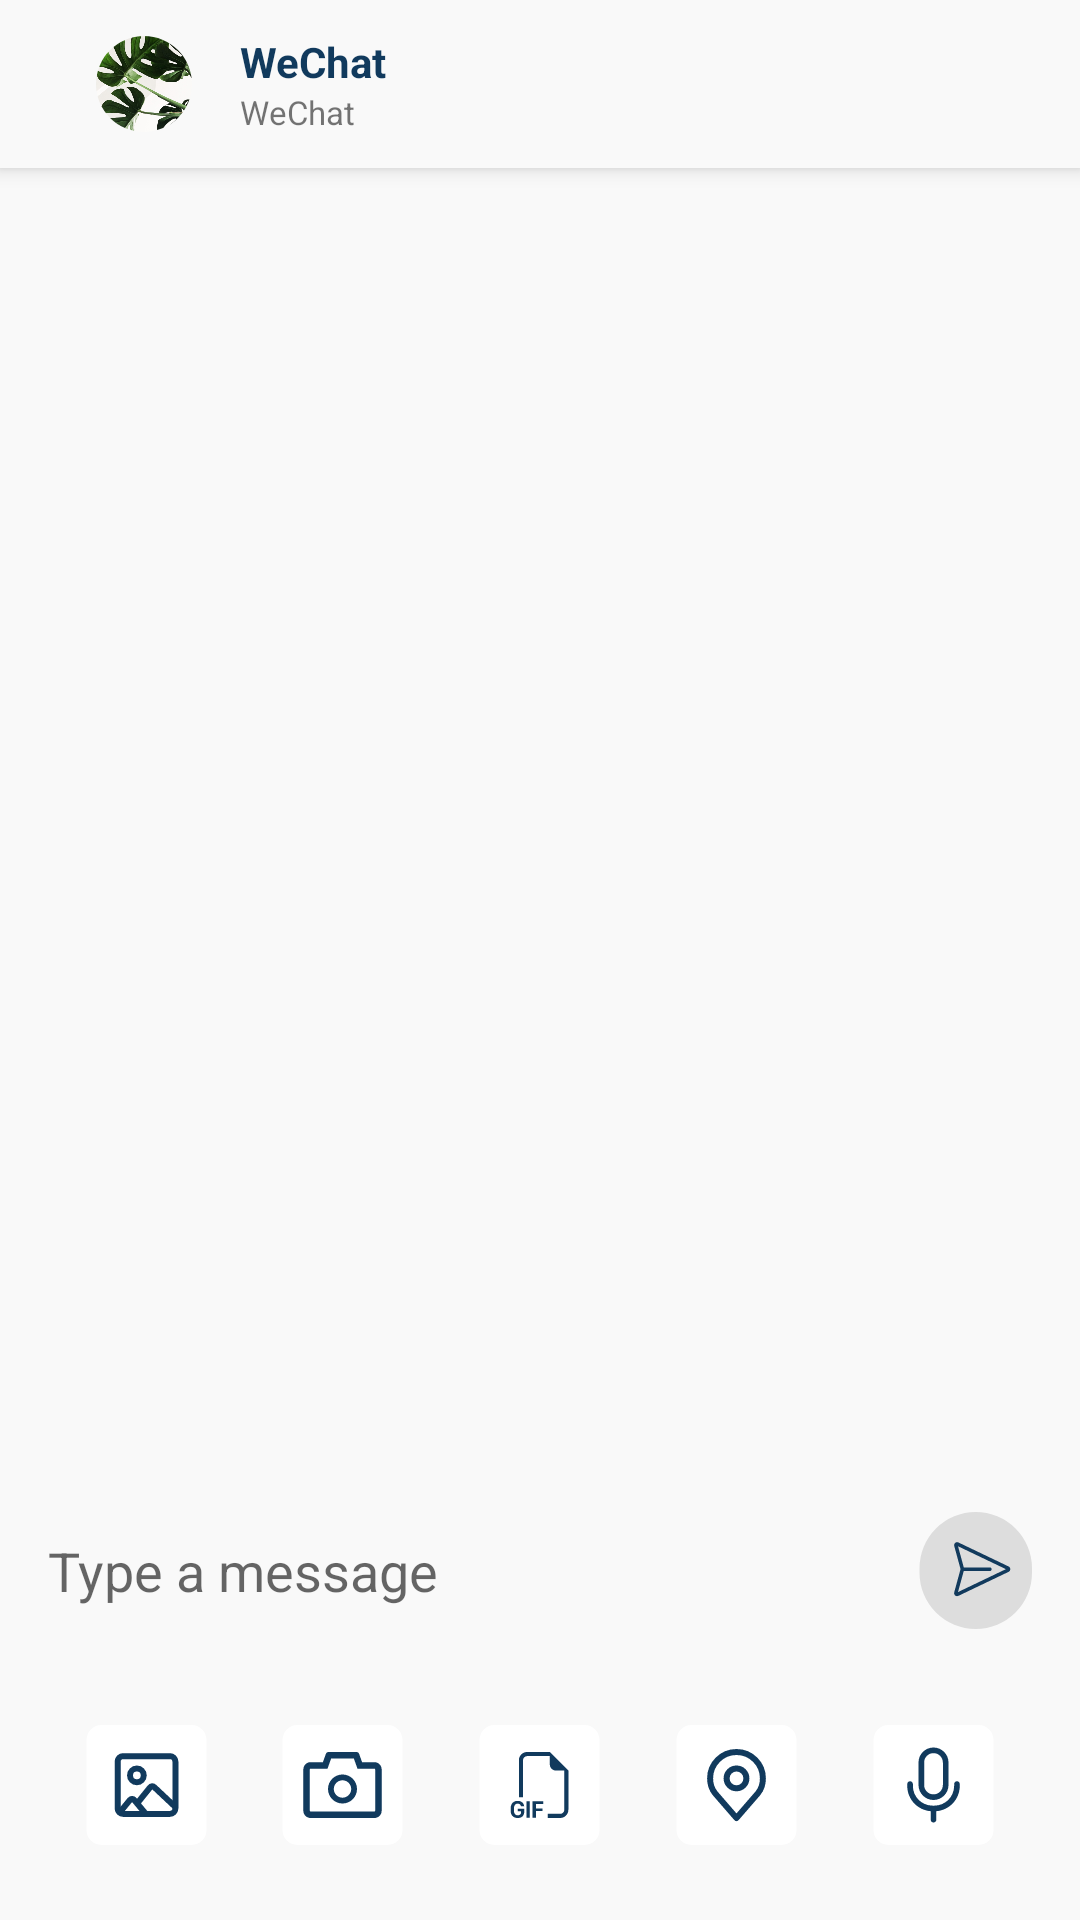

Icons on this 1080px x 1920px Android screen, each with its box as (x1, y1, x2, y2):
send camera: (303, 1752, 382, 1818)
send disable: (920, 1512, 1032, 1629)
send gif: (510, 1752, 569, 1818)
send location: (707, 1749, 766, 1822)
send voice: (907, 1747, 960, 1823)
